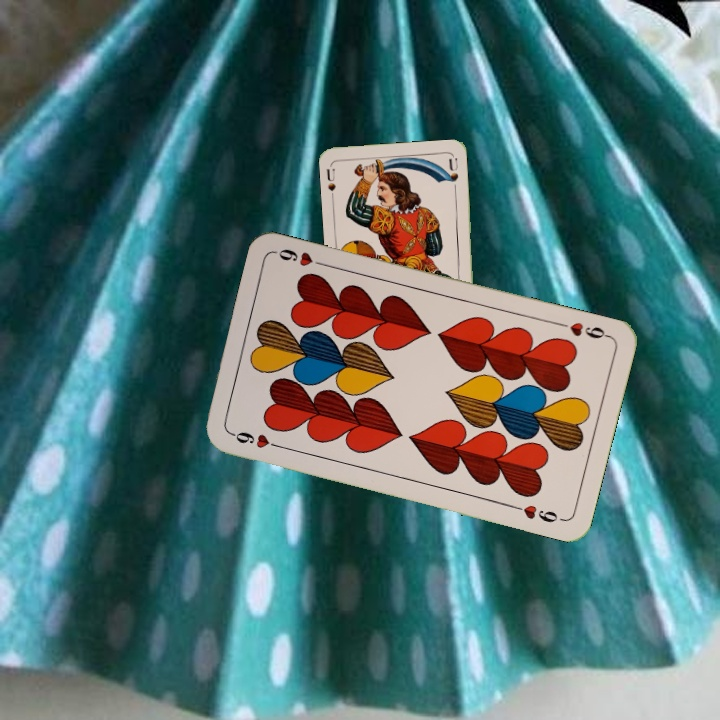H9: (554, 318, 612, 342), (227, 427, 285, 451)
SU: (322, 165, 338, 202)
